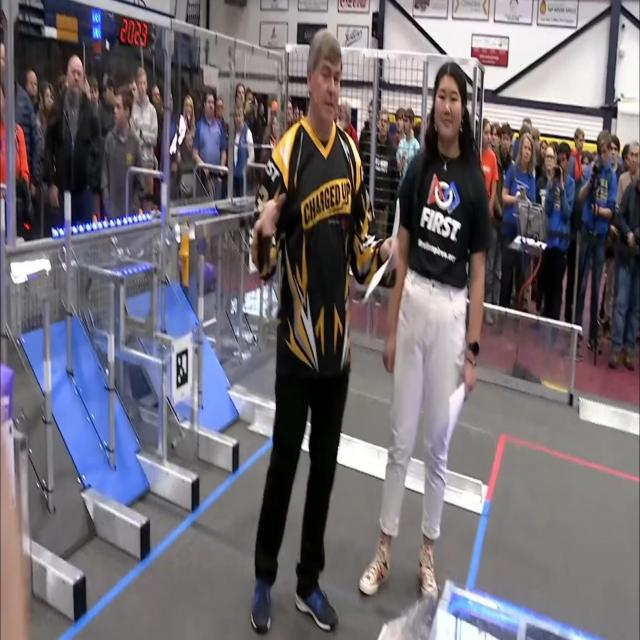frc_cone: (176, 251, 187, 288), (178, 232, 192, 261)
frc_cube: (0, 361, 18, 422), (203, 262, 216, 294)
